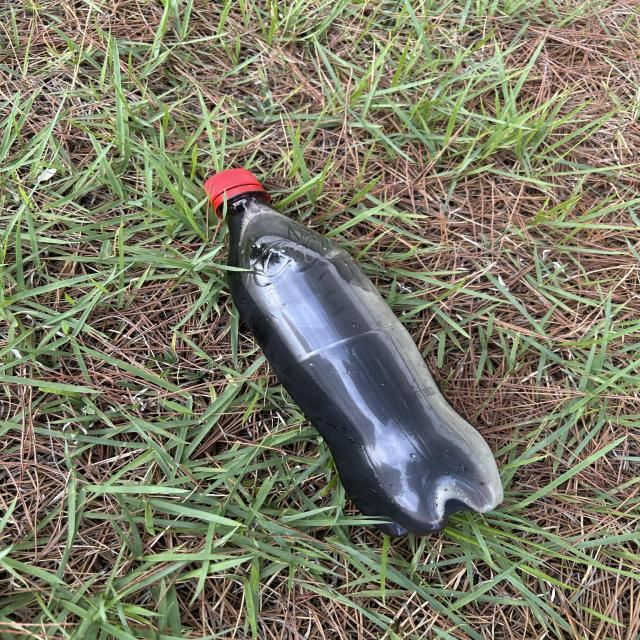high: (204, 169, 503, 536)
